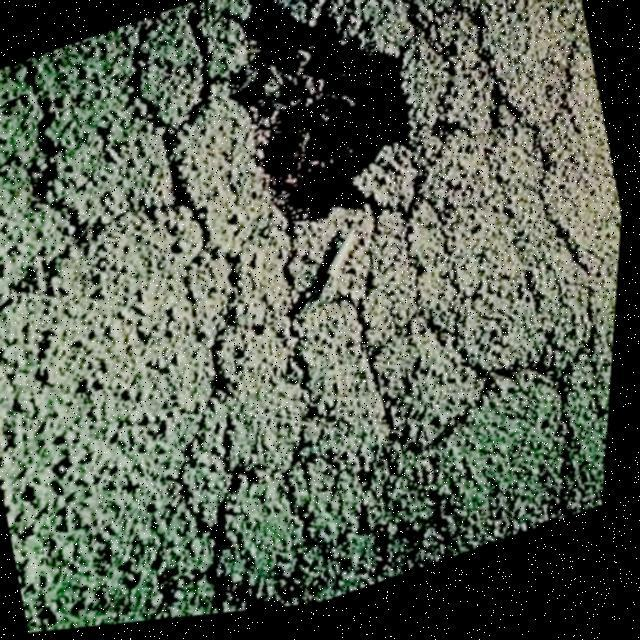pothole: (186, 0, 451, 266)
